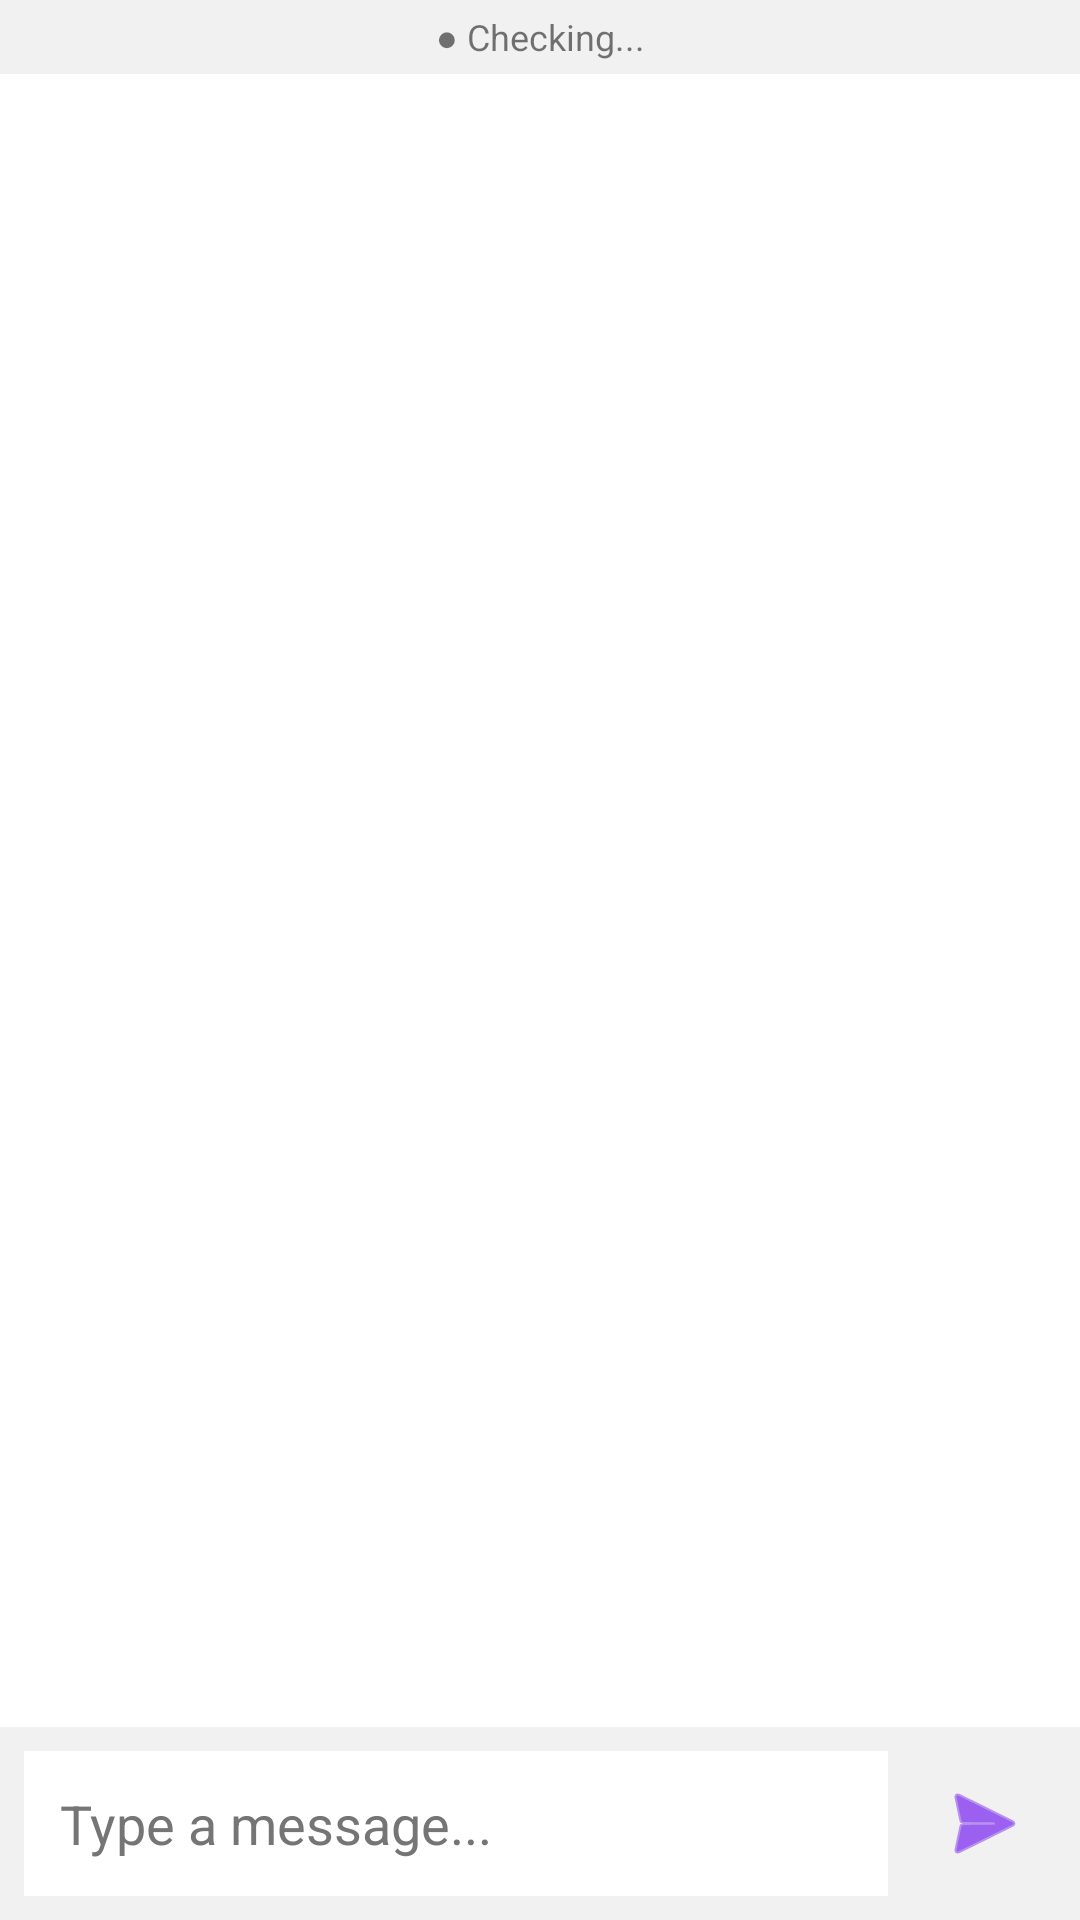

Icon bounding boxes for this 1080w x 1920h phone screenshot, format BBox(x1, y1, x2, y2):
Send: BBox(954, 1793, 1016, 1854)
